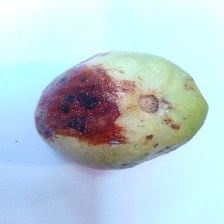guava: (26, 2, 173, 184)
